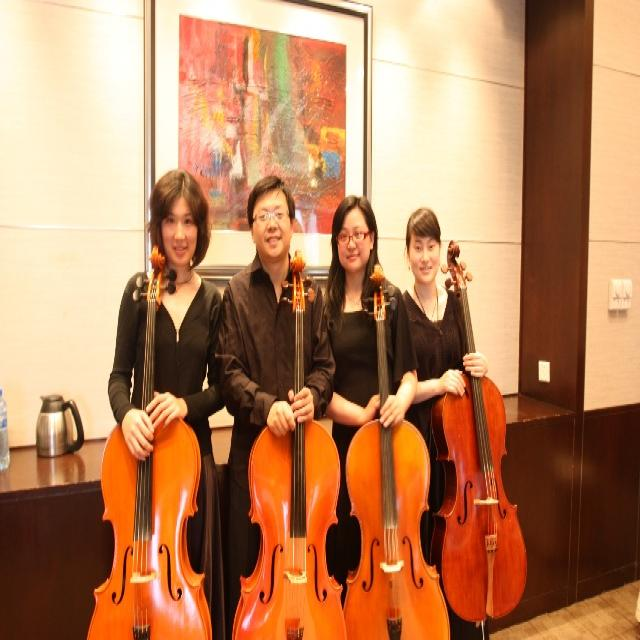cello: (83, 246, 214, 638), (227, 247, 347, 638), (338, 280, 451, 639), (429, 237, 526, 620)
